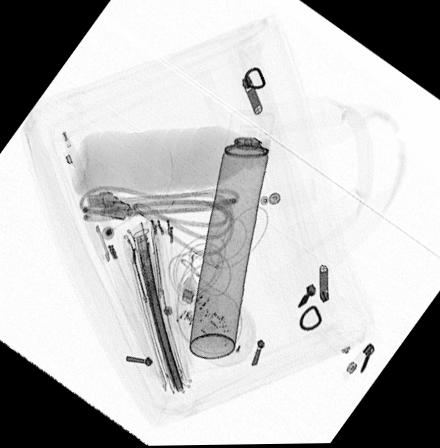Sprayer: (187, 109, 276, 363)
